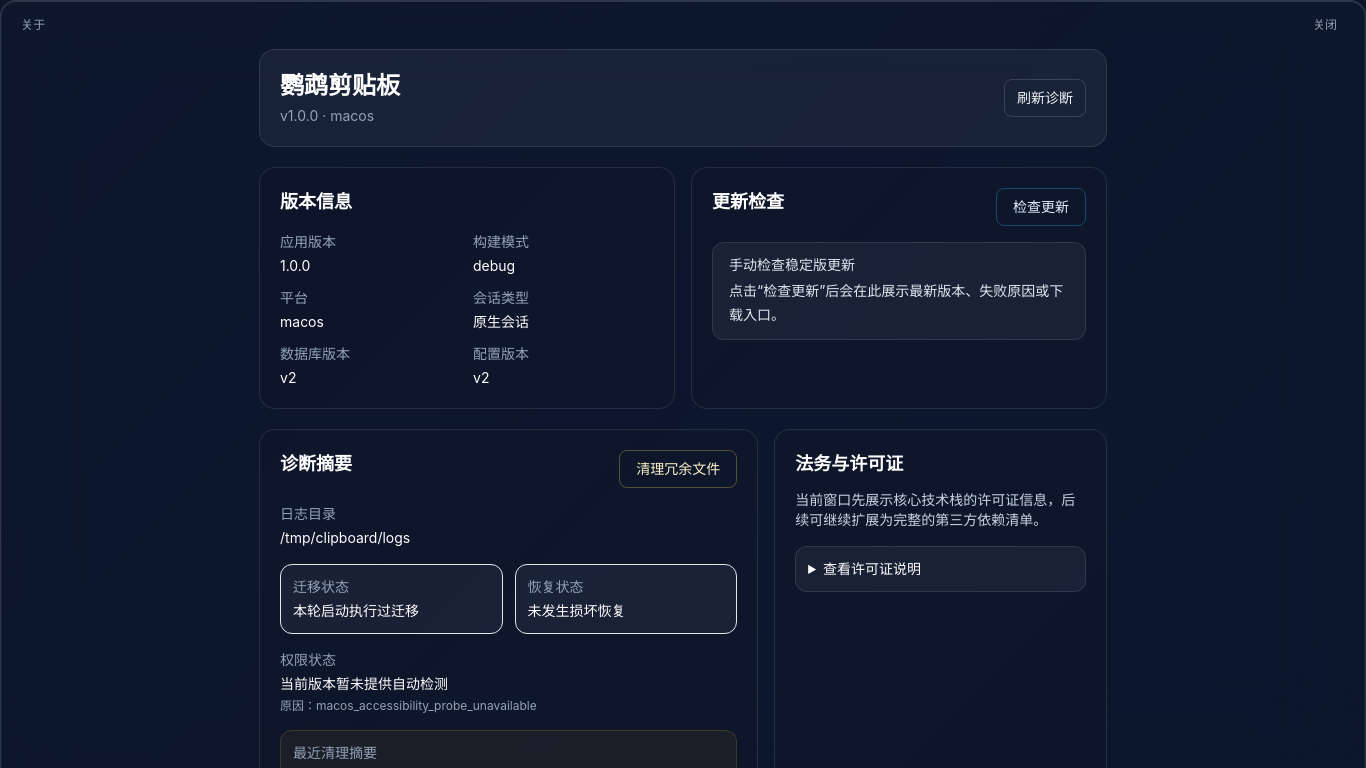
Test: AboutWindow › 可手动触发孤立图片清理并回显最近清理摘要
Check: the element with test id "about-release-card" shows "1.0.0", box [280,257,310,274]
Step 1. Click the button with test id "about-run-orphan-cleanup-button" → (678, 469), box [619,450,737,488]
(page scrolled)
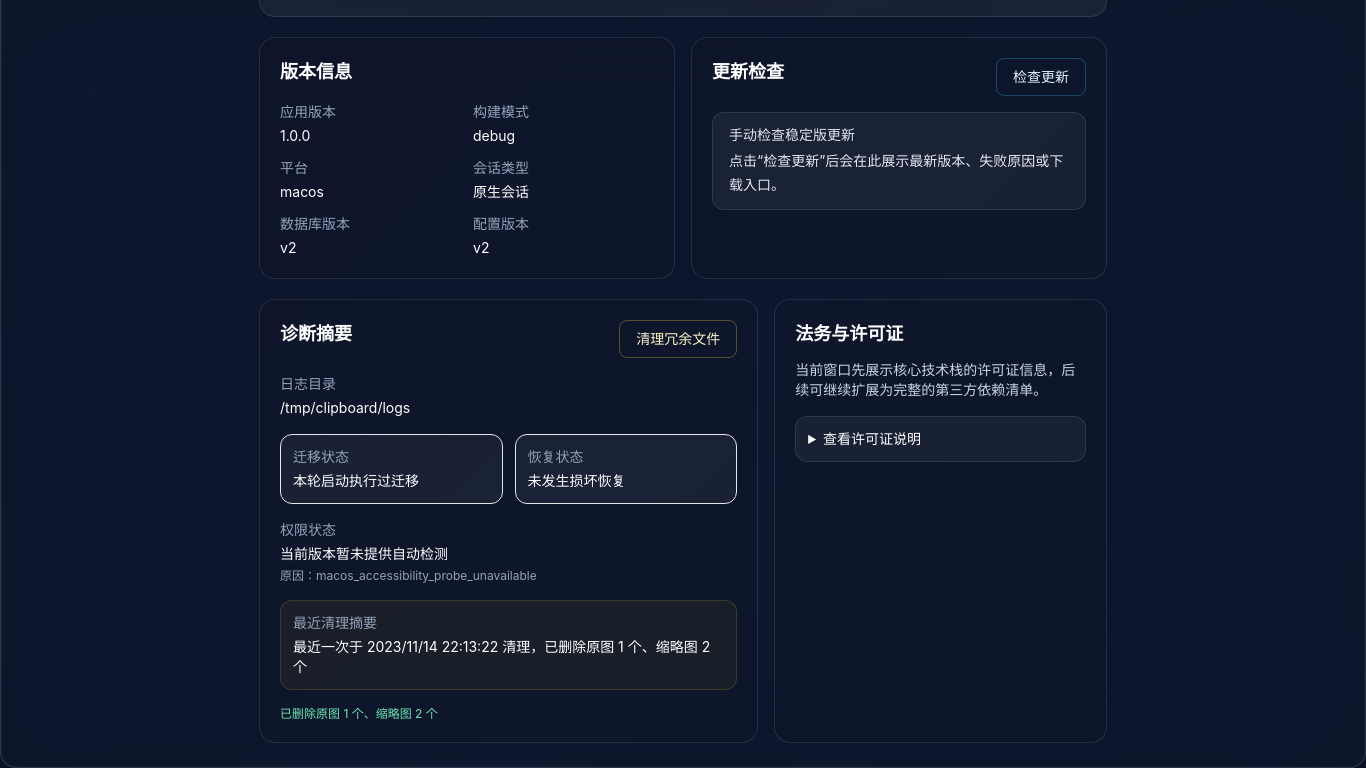
Check: the element with test id "about-orphan-cleanup-summary" shows "已删除原图 1 个、缩略图 2 个", box [293,638,710,675]
Check: the text with test id "about-orphan-cleanup-feedback" reads "已删除原图 1 个、缩略图 2 个", box [280,706,438,721]
